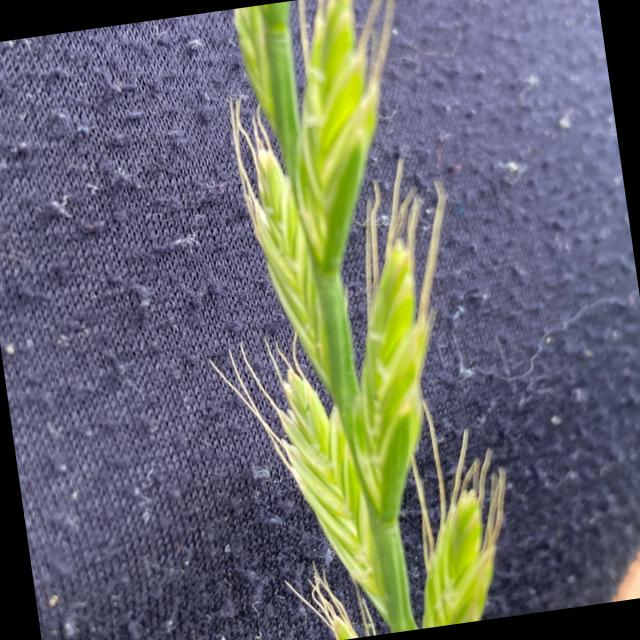Lolium: (160, 0, 527, 640)
